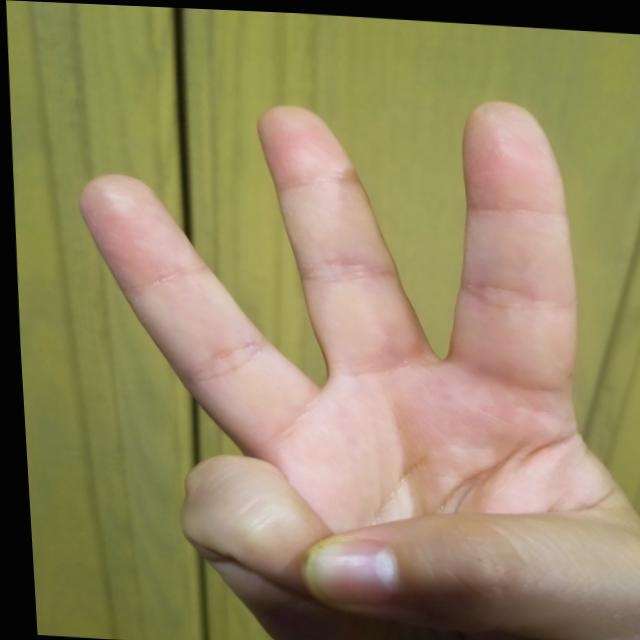W: (51, 65, 639, 639)
